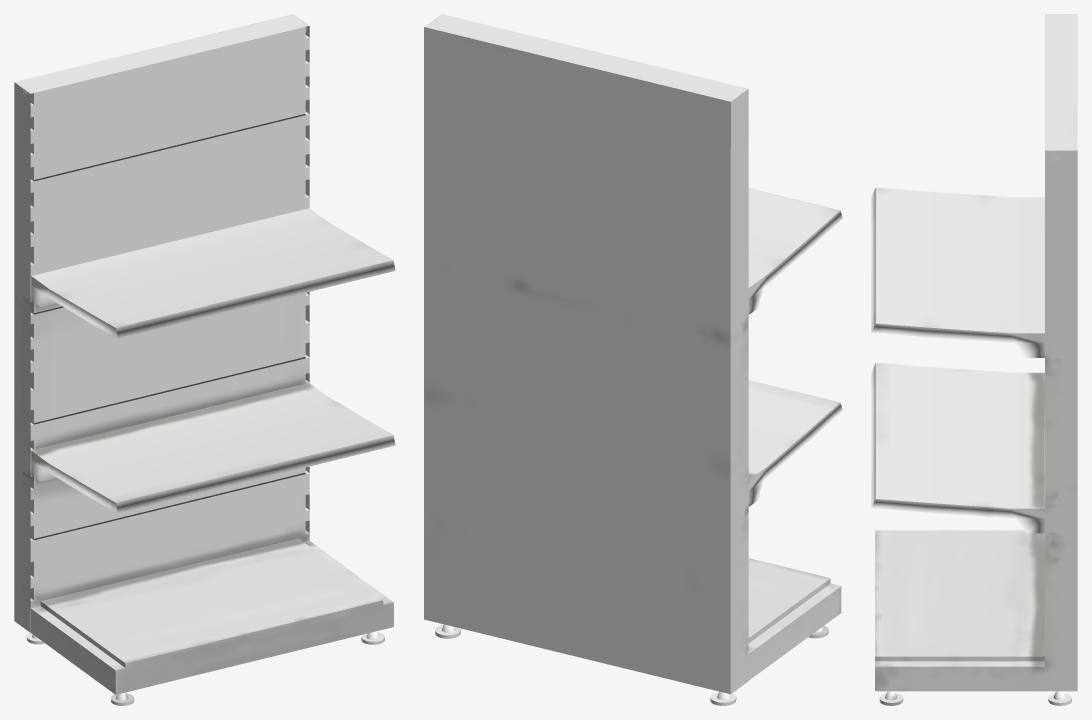
File: tana8.fbx
3 views of the same model, side by side, from view 1: azimuth 30°, elevation 25°; view 2: azimuth 150°, elevation 25°; view 3: azimuth 270°, elevation 25° (orthographic). The views are drawn at different scales.
Parts seen in each view (by area): view 1: polySurface11; view 2: polySurface11; view 3: polySurface11.
Part boxes in pixels (bbox=[...]): polySurface11: bbox=[14, 14, 395, 705]; polySurface11: bbox=[424, 14, 842, 705]; polySurface11: bbox=[871, 14, 1077, 705].
Bounding box in the file's own units: 1141 × 2168 × 728.
